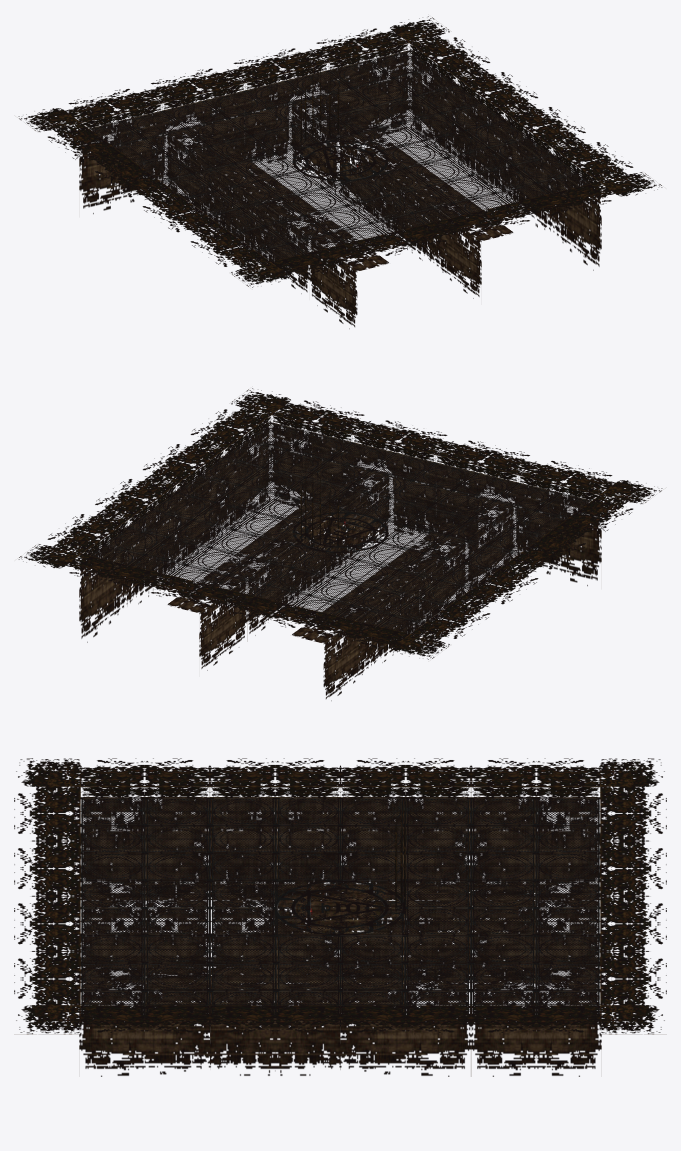
The picture shows the model from 3 angles, top to bottom: view 1: azimuth 30°, elevation 25°; view 2: azimuth 150°, elevation 25°; view 3: azimuth 270°, elevation 25°; orthographic projection. The views are drawn at different scales.
Parts seen in each view (by area): view 1: S_BACK2_m0, S_BACK2_m1, N_BACK_m4, N_BACK_m5, N_BACK_m1, N_BACK_m0, N_BACK_m3, N_BACK_m2, NU1_m0; view 2: S_BACK2_m0, S_BACK2_m1, N_BACK_m4, N_BACK_m5, N_BACK_m3, N_BACK_m2, N_BACK_m1, N_BACK_m0, NU1_m0; view 3: S_BACK2_m1, S_BACK2_m0, N_BACK_m4, N_BACK_m5, N_BACK_m2, N_BACK_m0, N_BACK_m1, N_BACK_m3, NU1_m0.
Boxes of the visible parts, left/top/right/bottom form: S_BACK2_m0: left=79, top=50, right=601, bottom=270; S_BACK2_m1: left=166, top=94, right=513, bottom=328; N_BACK_m4: left=142, top=104, right=662, bottom=287; N_BACK_m5: left=18, top=16, right=537, bottom=199; N_BACK_m1: left=245, top=50, right=505, bottom=150; N_BACK_m0: left=89, top=91, right=315, bottom=199; N_BACK_m3: left=365, top=120, right=600, bottom=230; N_BACK_m2: left=183, top=170, right=435, bottom=267; NU1_m0: left=300, top=57, right=338, bottom=150; S_BACK2_m0: left=79, top=422, right=601, bottom=642; S_BACK2_m1: left=167, top=466, right=514, bottom=700; N_BACK_m4: left=143, top=388, right=662, bottom=571; N_BACK_m5: left=18, top=476, right=538, bottom=659; N_BACK_m3: left=175, top=422, right=435, bottom=522; N_BACK_m2: left=365, top=463, right=591, bottom=571; N_BACK_m1: left=80, top=492, right=315, bottom=602; N_BACK_m0: left=245, top=542, right=497, bottom=639; NU1_m0: left=300, top=466, right=338, bottom=550; S_BACK2_m1: left=79, top=885, right=601, bottom=1076; S_BACK2_m0: left=80, top=797, right=600, bottom=913; N_BACK_m4: left=14, top=758, right=406, bottom=1034; N_BACK_m5: left=340, top=758, right=666, bottom=1034; N_BACK_m2: left=79, top=797, right=340, bottom=908; N_BACK_m0: left=340, top=797, right=601, bottom=908; N_BACK_m1: left=340, top=907, right=601, bottom=1018; N_BACK_m3: left=79, top=907, right=340, bottom=1018; NU1_m0: left=395, top=785, right=405, bottom=920.
Size of the model in its own units: 20 by 8.07 by 20.
Materials: 4 (4 with a texture image).
